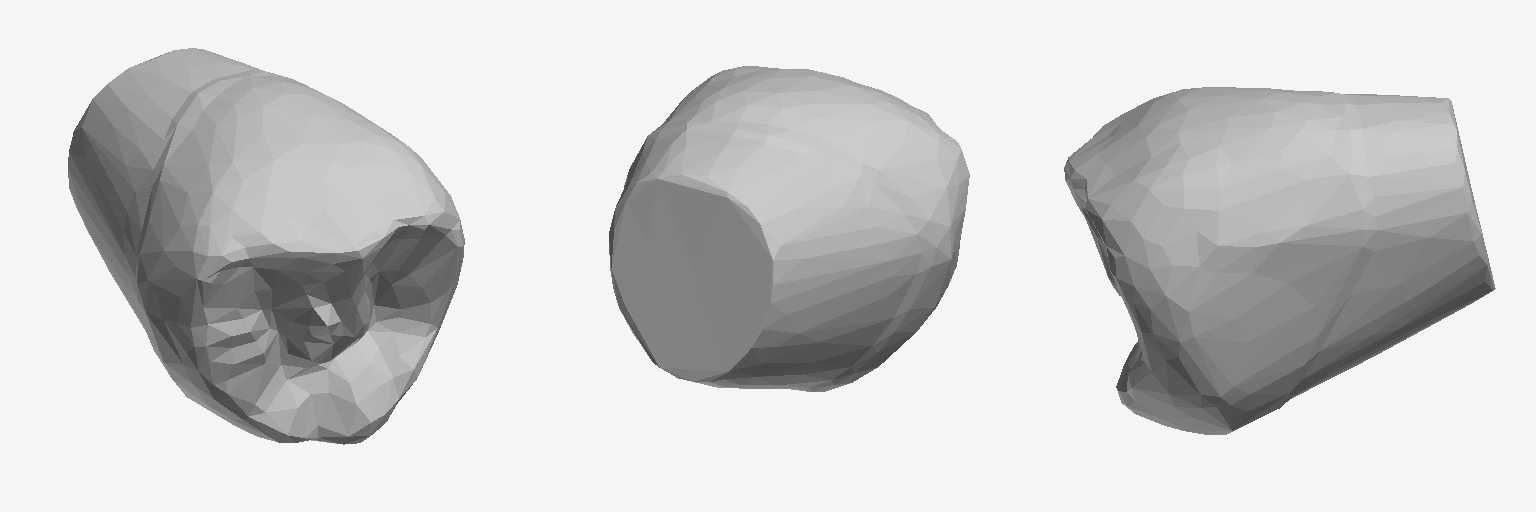
File: local_t45_7780_si.OBJ
The picture shows the model from 3 angles: view 1: azimuth 30°, elevation 25°; view 2: azimuth 150°, elevation 25°; view 3: azimuth 270°, elevation 25°; orthographic projection.
Parts seen in each view (by area): view 1: Group3655; view 2: Group3655; view 3: Group3655.
Part boxes in pixels (x1,y1,x2,y2): Group3655: (68,48,464,444); Group3655: (609,66,969,391); Group3655: (1064,87,1495,434).
Size of the model in its own units: 8 by 8.2 by 10.18.